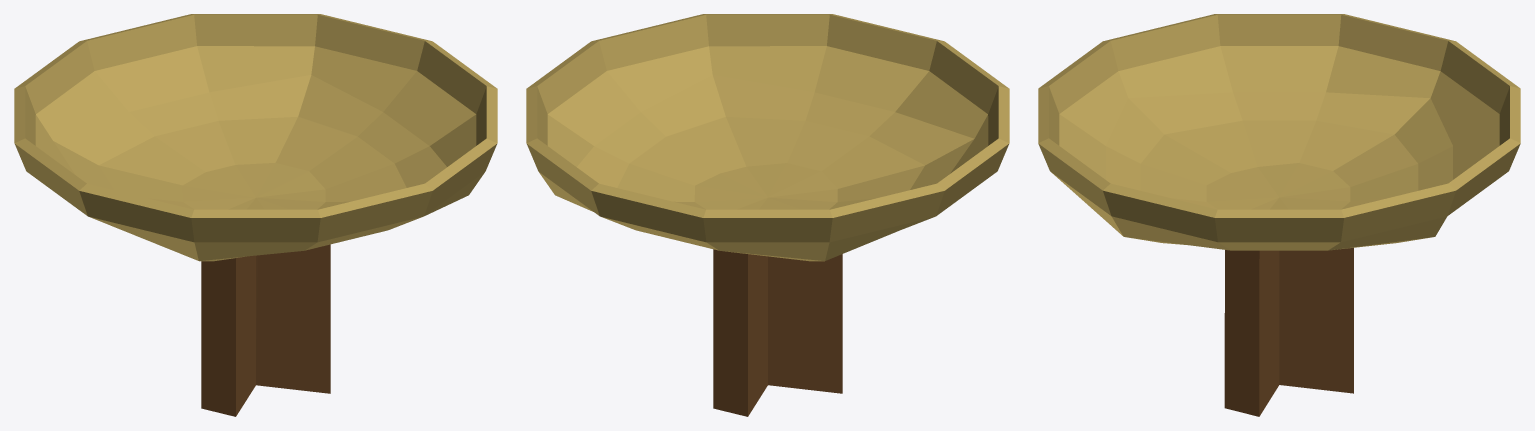
Rendered from WaterTank_T3.fbx.
3 renders of one model, left to right at view 1: azimuth 30°, elevation 25°; view 2: azimuth 150°, elevation 25°; view 3: azimuth 270°, elevation 25°, orthographic.
Parts seen in each view (by area): view 1: Water_Tank_T3; view 2: Water_Tank_T3; view 3: Water_Tank_T3.
Boxes of the visible parts, x1,y1,x2,y2 form: Water_Tank_T3: (14,14,497,416); Water_Tank_T3: (526,14,1009,416); Water_Tank_T3: (1038,14,1520,416).
Size of the model in its own units: 130 by 81.1 by 130.
